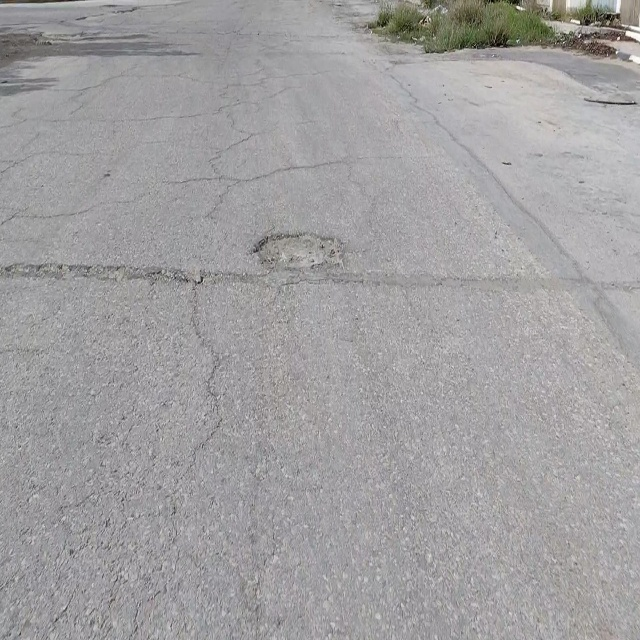pothole: (251, 228, 344, 272)
